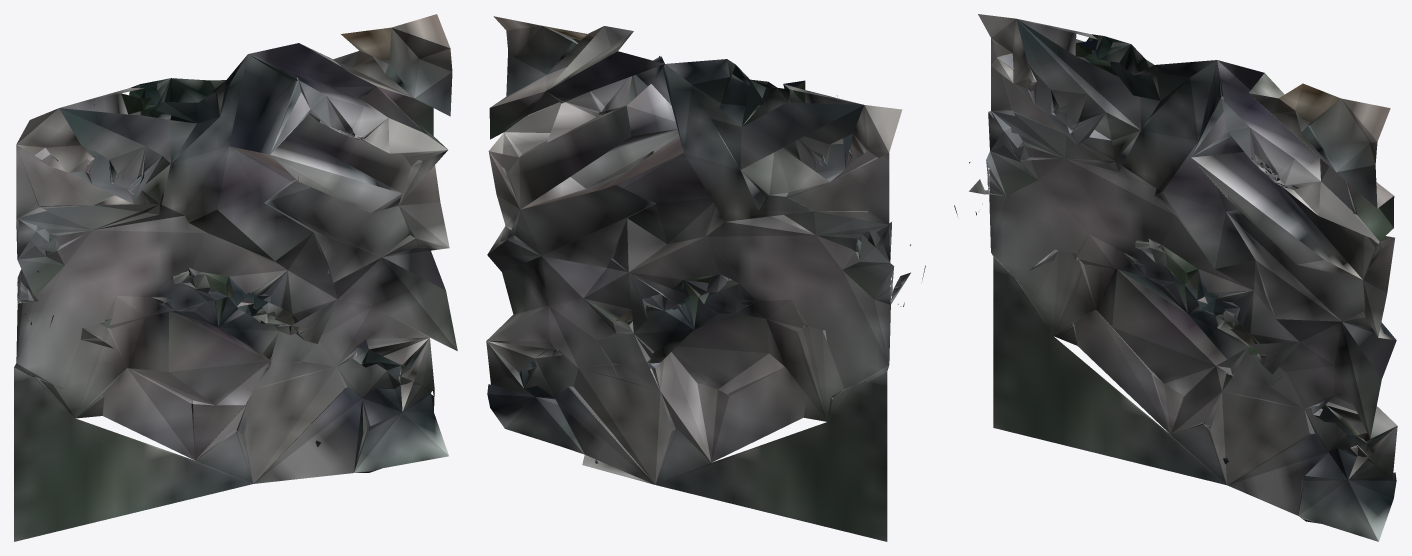
File: Tile_+038_+019_L13.obj
3 views of the same model, side by side, from view 1: azimuth 30°, elevation 25°; view 2: azimuth 150°, elevation 25°; view 3: azimuth 330°, elevation 25° (orthographic). The views are drawn at different scales.
Bounding box in the file's own units: 250 × 250 × 41.46.
Materials: 1 (1 with a texture image).
